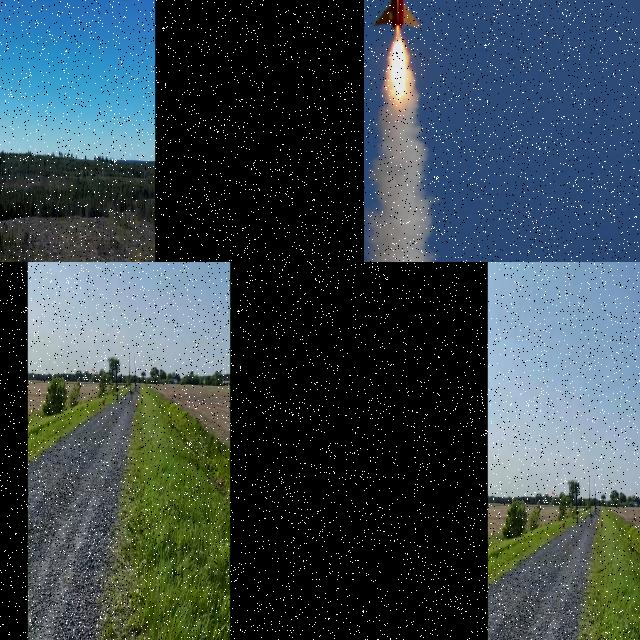Rocket: (576, 492, 579, 516), (116, 370, 119, 392)
